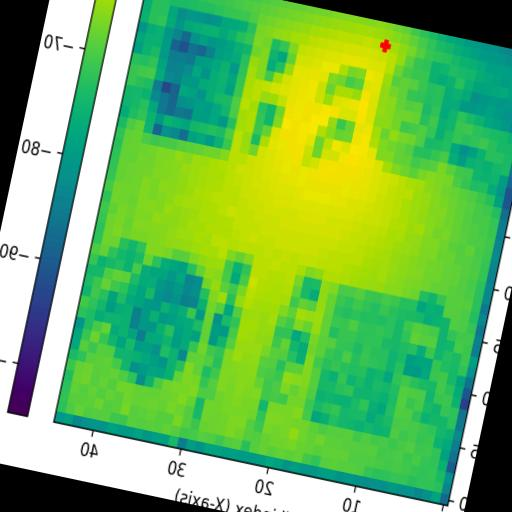Concrete: (142, 4, 256, 149)
Glass: (362, 47, 468, 186)
Metal: (100, 250, 214, 394)
Wood: (302, 281, 418, 437)
